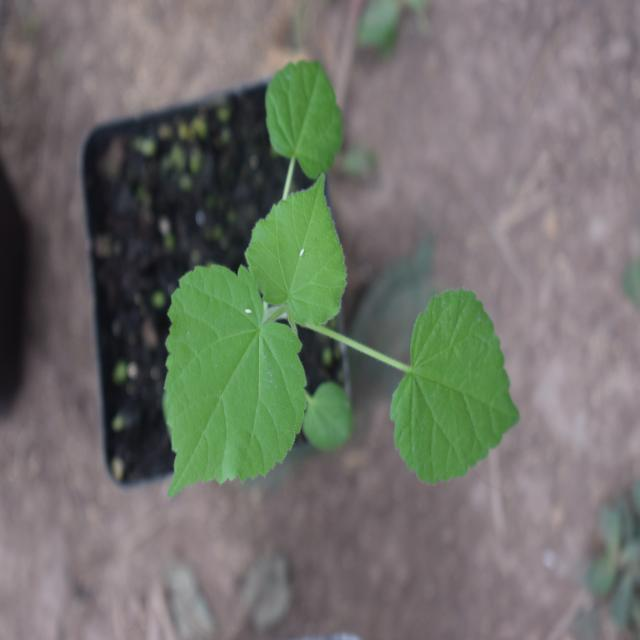abutilon theophrasti: (154, 58, 520, 522)
